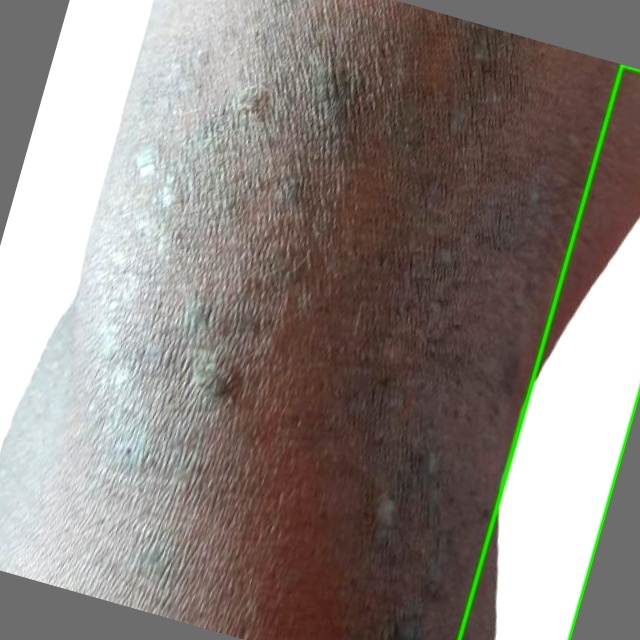Contact Dermatitis: (459, 65, 639, 639)
